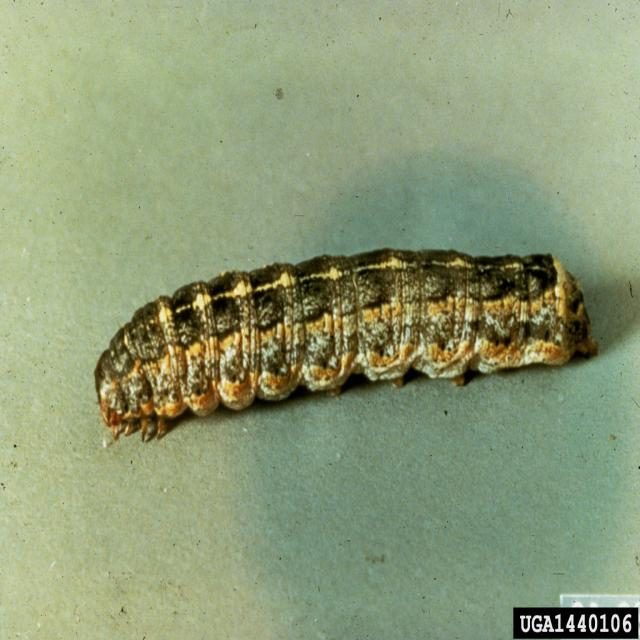Cutworm: (90, 238, 597, 459)
